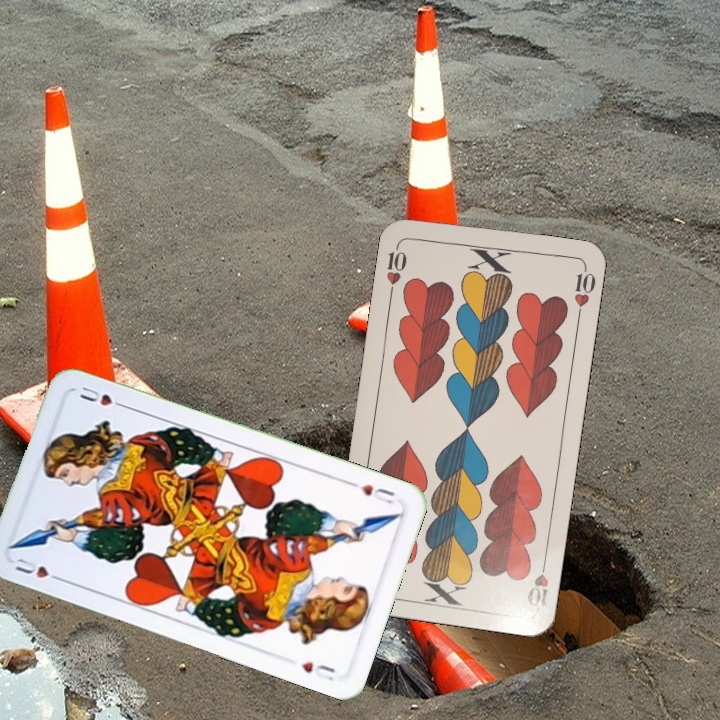H10: (382, 238, 410, 298), (522, 553, 551, 610)
HU: (11, 554, 67, 585), (345, 477, 397, 507)
